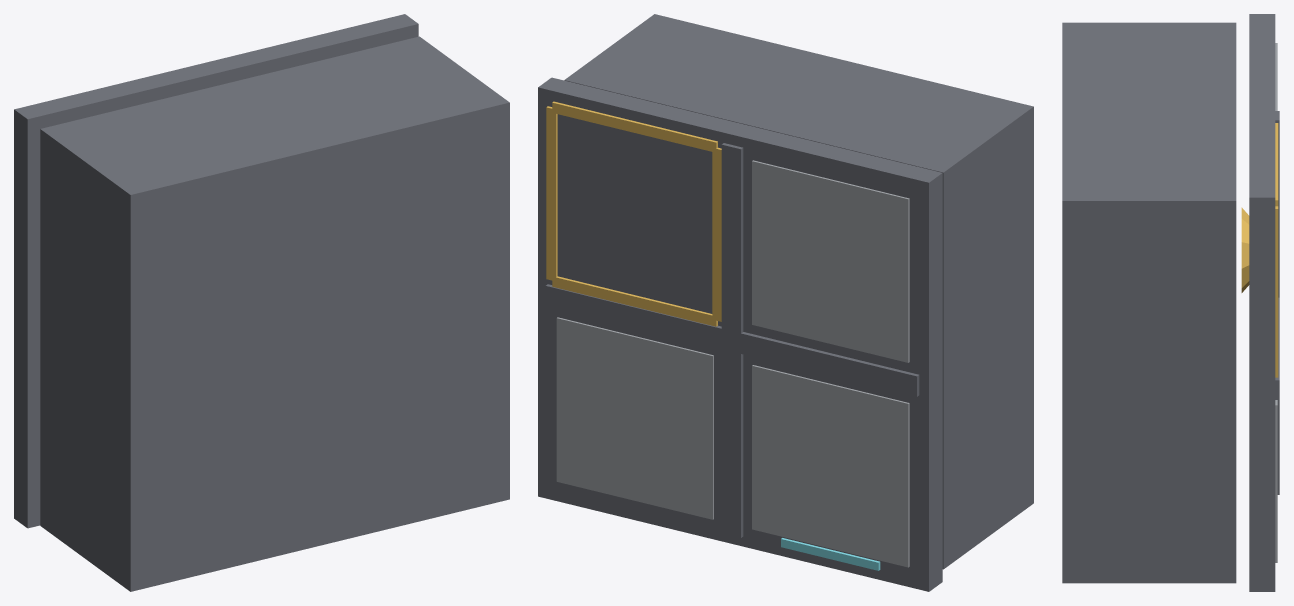
File: bay_vls.glb
3 renders of one model, left to right at view 1: azimuth 30°, elevation 25°; view 2: azimuth 150°, elevation 25°; view 3: azimuth 270°, elevation 25°, orthographic. The views are drawn at different scales.
Size of the model in its own units: 2 by 2 by 1.
